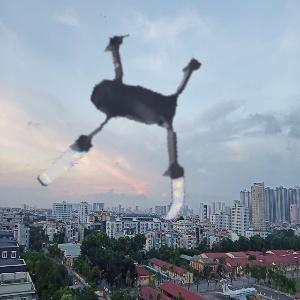drone: (13, 10, 238, 235)
